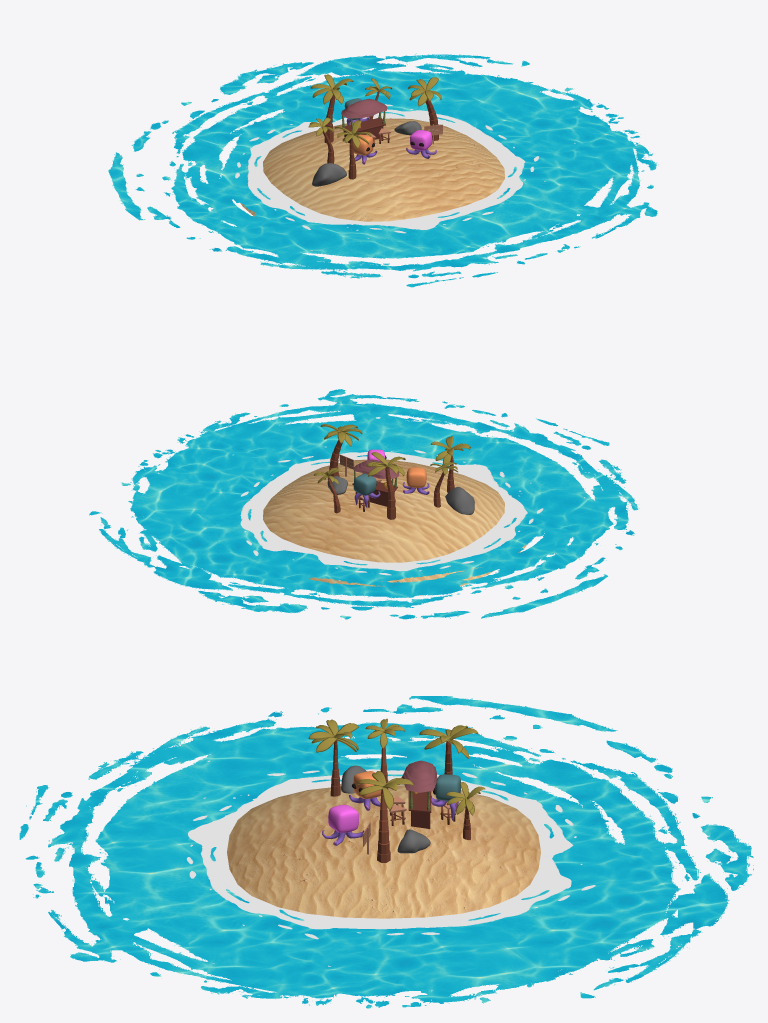
3 views of the same model, one above another, from view 1: azimuth 30°, elevation 25°; view 2: azimuth 150°, elevation 25°; view 3: azimuth 270°, elevation 25° (orthographic). The views are drawn at different scales.
Parts seen in each view (by area): view 1: Water_1, Ground_62, WaterWhite_0, Roof_13, Rock.001_14; view 2: Water_1, Ground_62, WaterWhite_0, Rock.001_14; view 3: Water_1, Ground_62, WaterWhite_0, Roof_13, Body.001_80, Table.002_7, Tree.001_5, Rock_15, Body_17.
Part boxes in pixels (left/top/right/bottom): Water_1: left=108, top=53, right=658, bottom=287; Ground_62: left=240, top=118, right=504, bottom=221; WaterWhite_0: left=235, top=104, right=575, bottom=250; Roof_13: left=341, top=98, right=387, bottom=118; Rock.001_14: left=312, top=163, right=346, bottom=186; Water_1: left=89, top=389, right=639, bottom=619; Ground_62: left=263, top=459, right=526, bottom=595; WaterWhite_0: left=232, top=446, right=584, bottom=580; Rock.001_14: left=445, top=487, right=474, bottom=514; Water_1: left=19, top=696, right=753, bottom=1008; Ground_62: left=227, top=785, right=540, bottom=918; WaterWhite_0: left=187, top=760, right=608, bottom=966; Roof_13: left=401, top=760, right=437, bottom=792; Body.001_80: left=328, top=804, right=358, bottom=832; Table.002_7: left=408, top=790, right=431, bottom=829; Tree.001_5: left=377, top=789, right=390, bottom=862; Rock_15: left=397, top=829, right=430, bottom=853; Body_17: left=435, top=774, right=460, bottom=800.
Size of the model in its own units: 16.72 by 3.37 by 16.72.
Materials: 91 (4 with a texture image).
